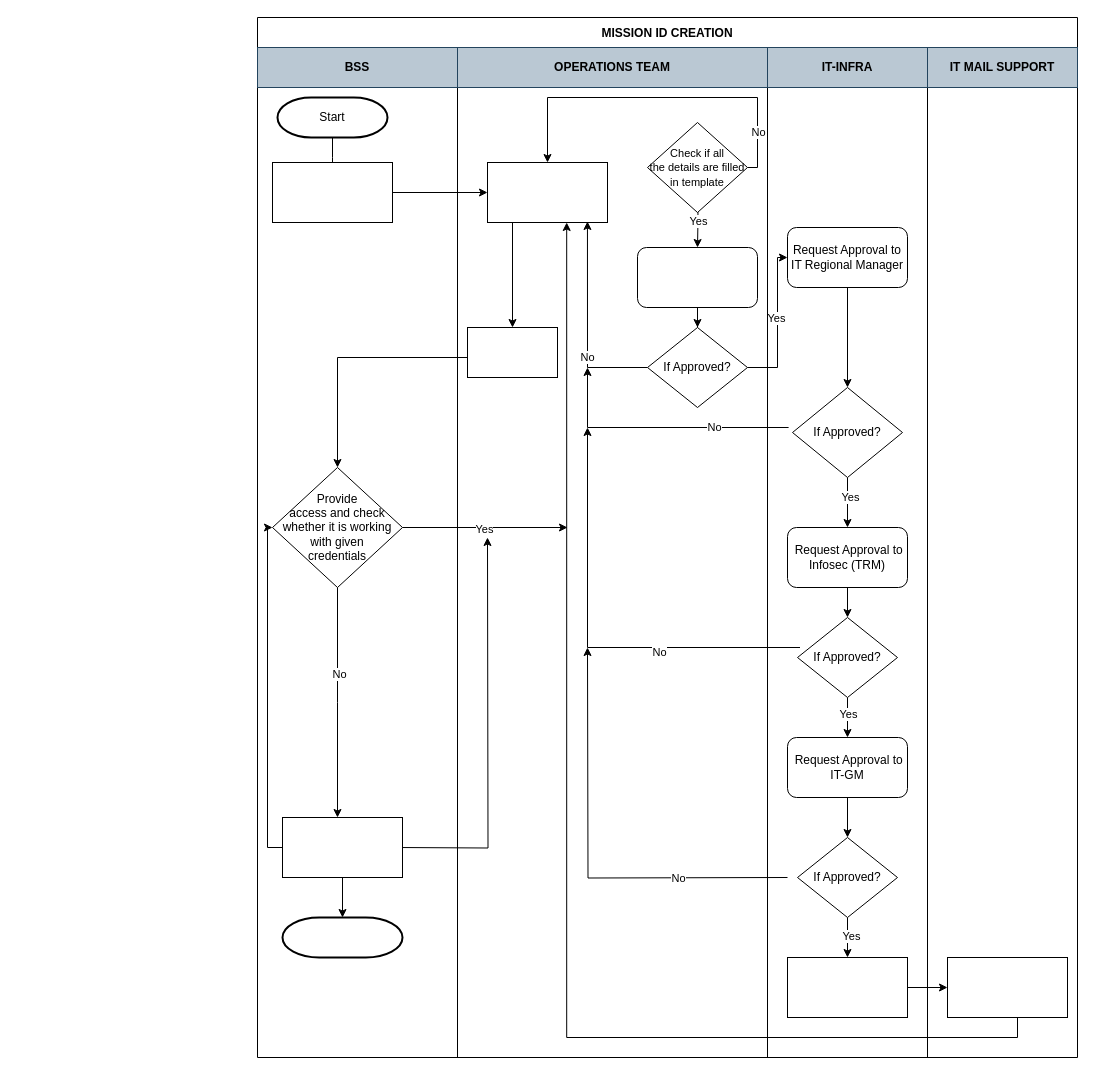
The diagram is 1095 pixels wide and 1075 high, and some of its shapes have lost their labels. Here are the shapes that lost their labels. From the top down, the box of each, then its label:
(272, 162, 392, 222): Share the Template with Operations team to fill the details
(486, 162, 608, 222): Fill/Update the template by SPOC/ID Owner
(636, 246, 758, 308): Request Approval to ID Owner
(466, 326, 558, 378): Raise Request to provide Mission Role
(282, 816, 402, 878): Change the Password and Check
(281, 916, 403, 958): End
(786, 956, 908, 1018): Request Mail Support Team to create Login ID
(946, 956, 1068, 1018): Create Login ID and Password and share to the Requester
